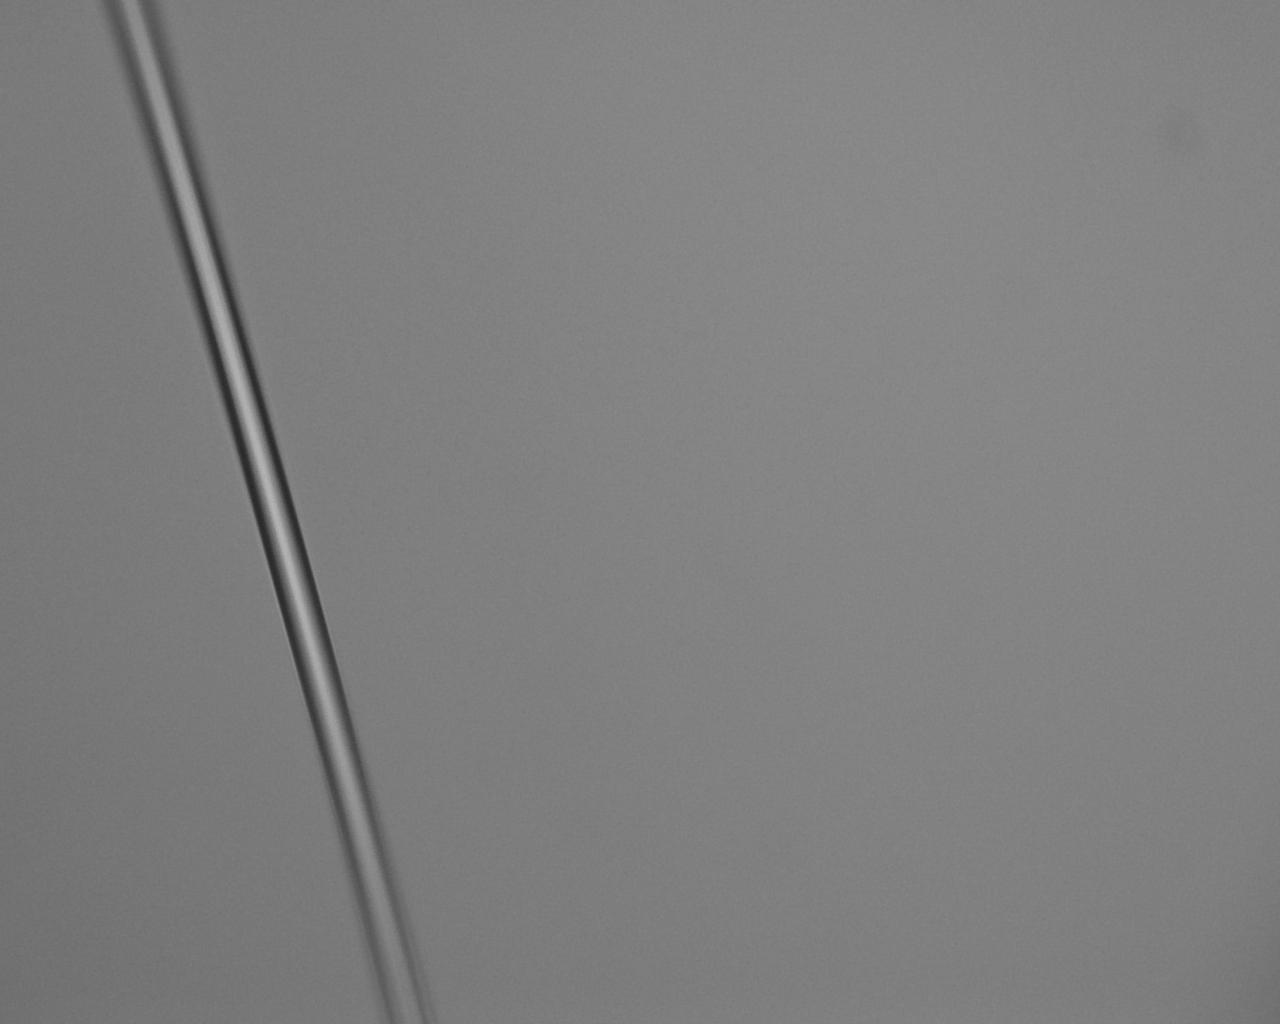fiber: (0, 807, 516, 1024), (981, 0, 1169, 522), (463, 0, 536, 522)
